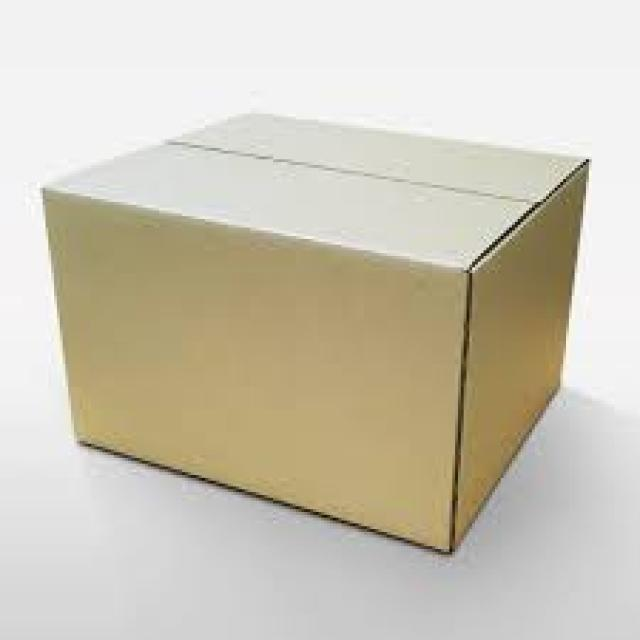Cardboard Paper: (18, 77, 602, 583)
